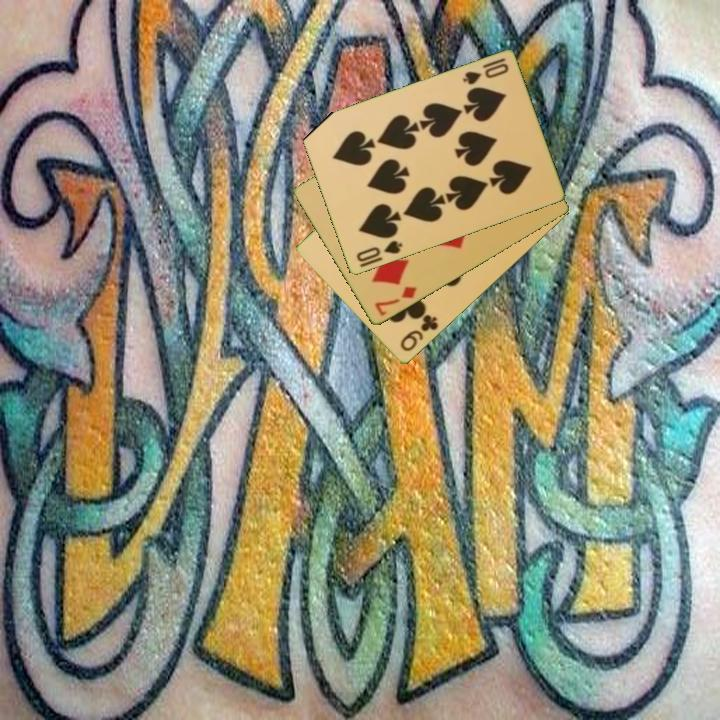10s: (459, 55, 511, 88), (353, 237, 405, 265)
7d: (371, 283, 419, 319)
9c: (397, 311, 441, 355)
